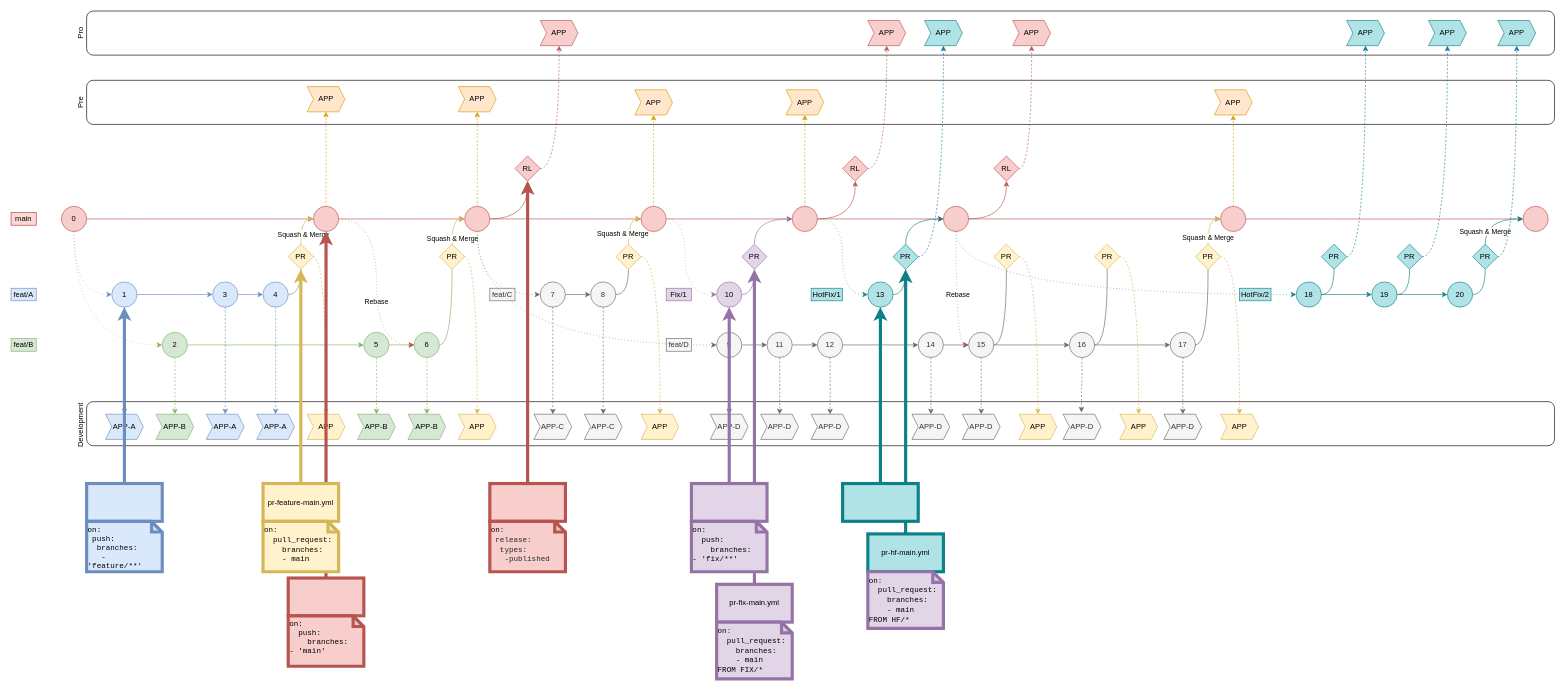
This 1566x691 diagram has some shape labels left out. Here are the shapes that lost their labels. From the top down, the centre of each, then its label:
the point at 124,502: feature.yml
the point at 527,502: release.yml
the point at 729,502: fix.yml
the point at 880,502: hot-fix.yml
the point at 325,596: main.yml ó release-candidate.yml
